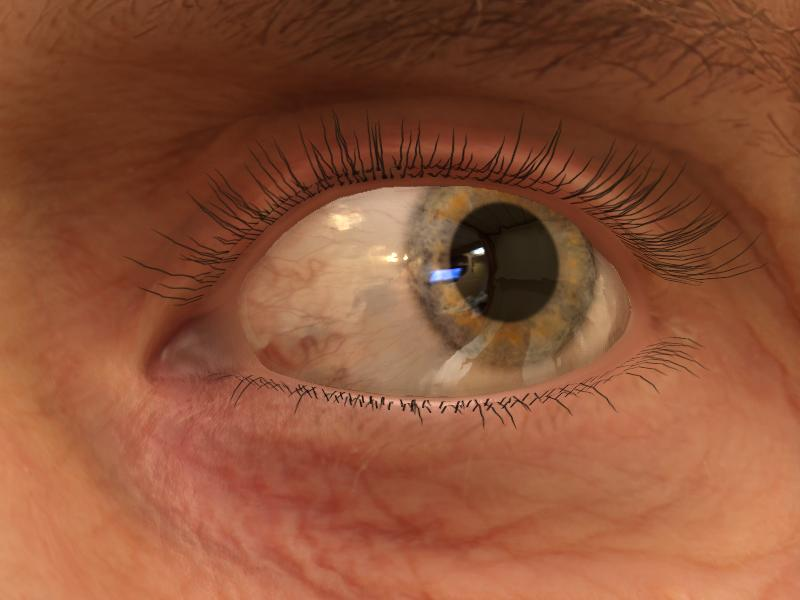eye: (404, 183, 605, 366)
